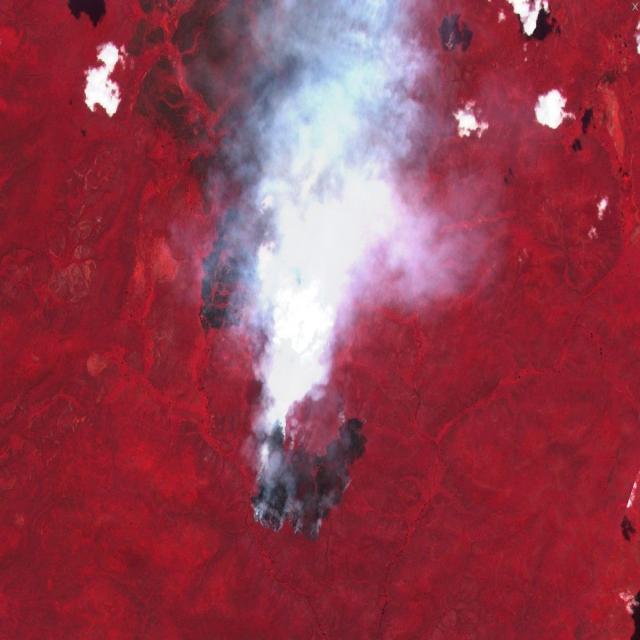fire: (244, 388, 372, 550), (194, 296, 263, 338)
